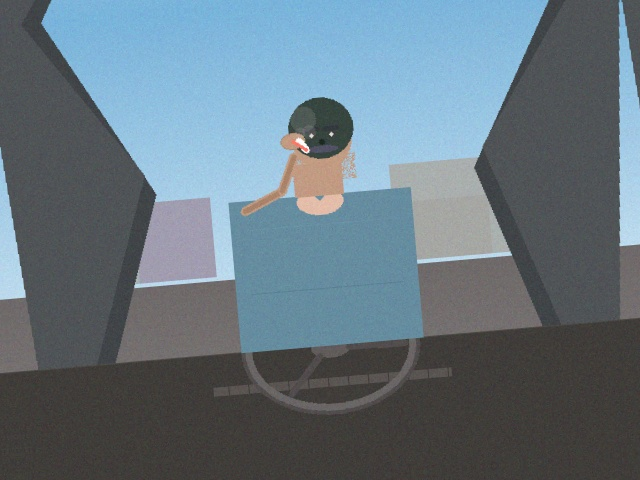smoking: (291, 124, 317, 154)
